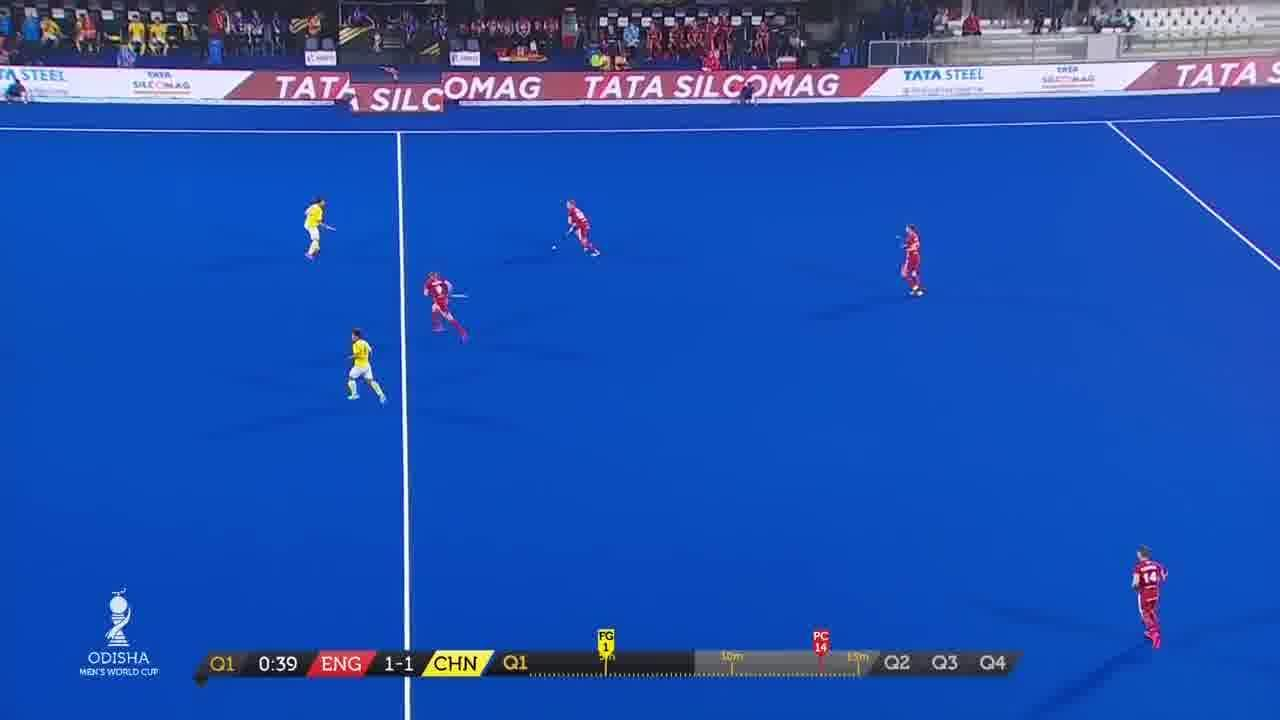ball: (548, 241, 562, 255)
